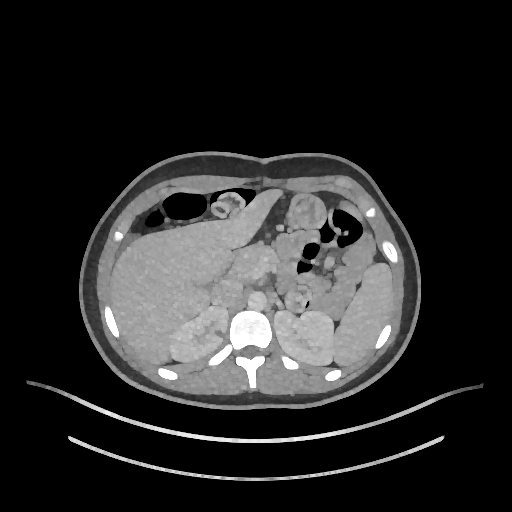Lesion: (210, 325, 228, 342)
